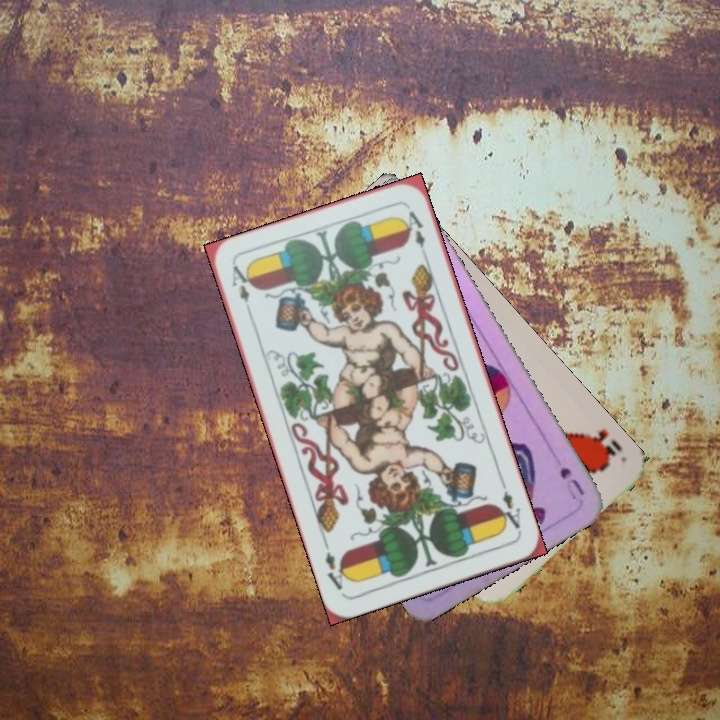EA: (227, 261, 255, 319), (494, 477, 523, 532)
HO: (578, 424, 625, 467)
SU: (555, 463, 588, 503)
